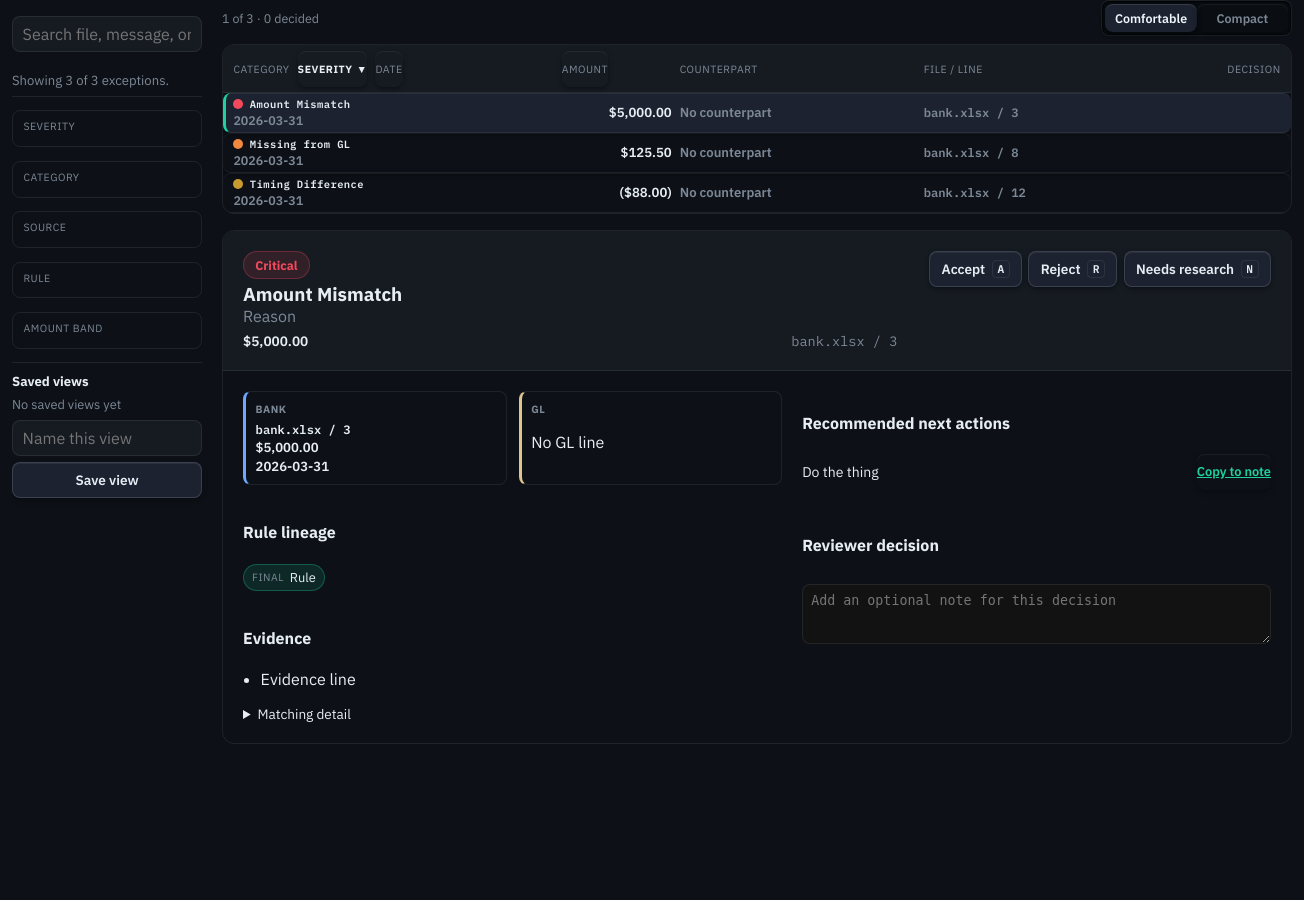
Test: ExceptionTriage › shows an empty state when no exceptions match
Type "ZZZZZ" into the field named "Search exceptions". click: (107, 34)
box: [12,16,202,52]
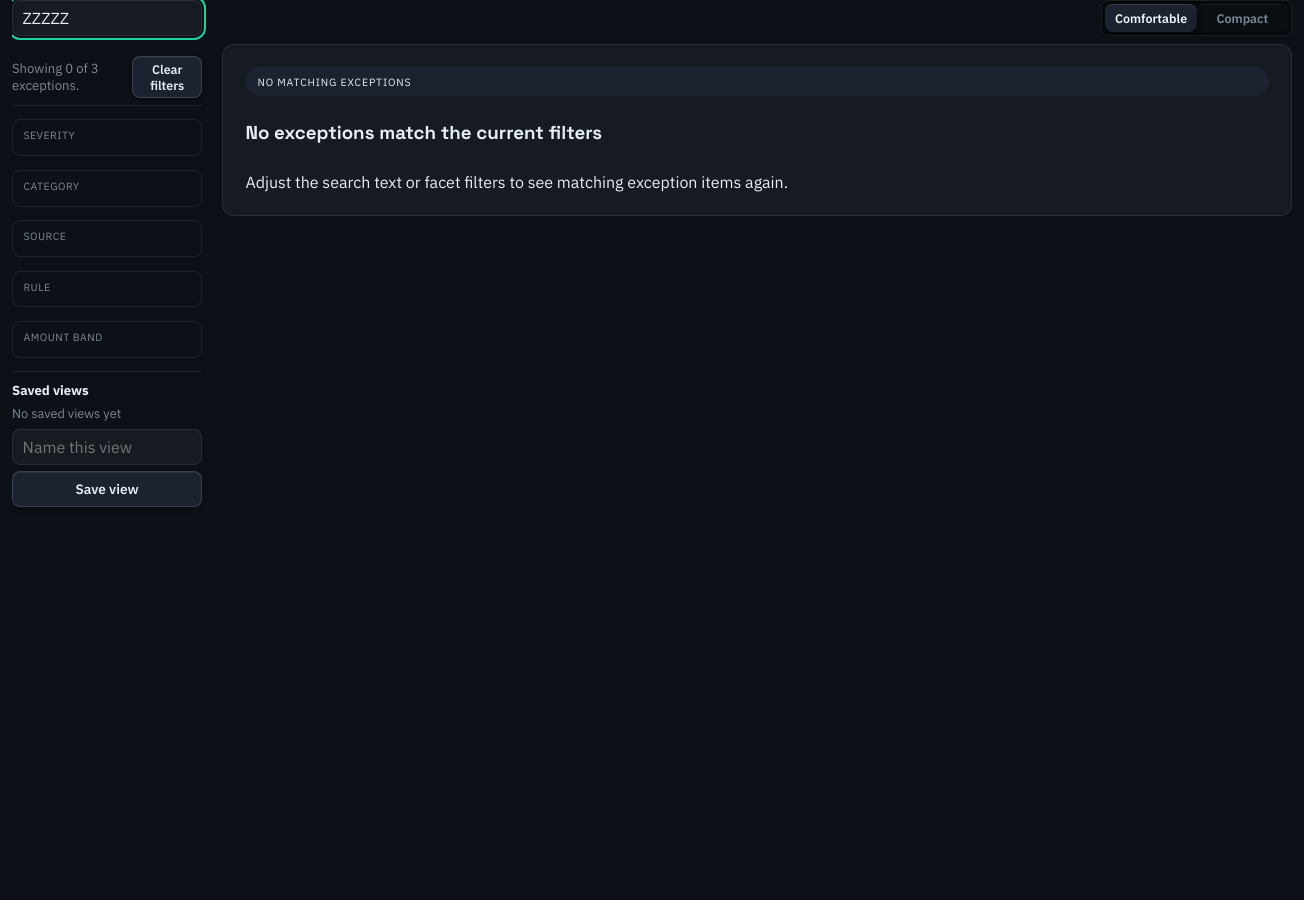
Result: the heading "No exceptions match the current filters" is shown at [245,121,602,144]
